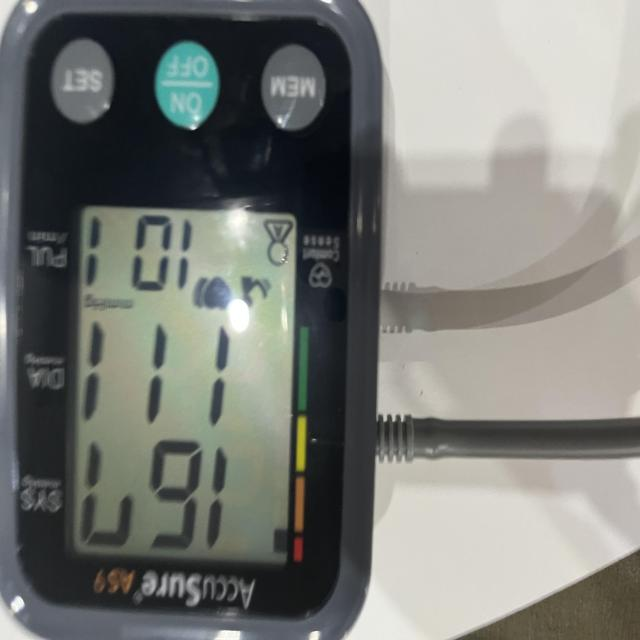bp: (0, 0, 391, 640)
